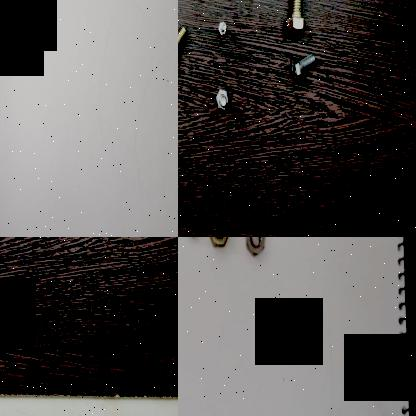Bolts: (279, 0, 308, 36), (286, 50, 316, 82), (214, 82, 232, 118), (178, 18, 187, 76), (217, 18, 227, 38)
NUTS: (241, 237, 269, 258), (206, 237, 232, 246)
